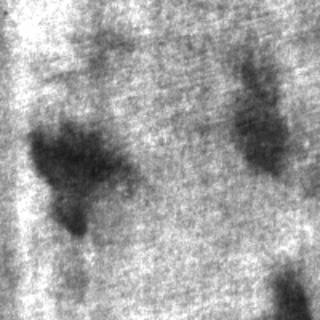patches: (22, 119, 128, 234), (228, 55, 284, 171), (260, 260, 308, 318)
